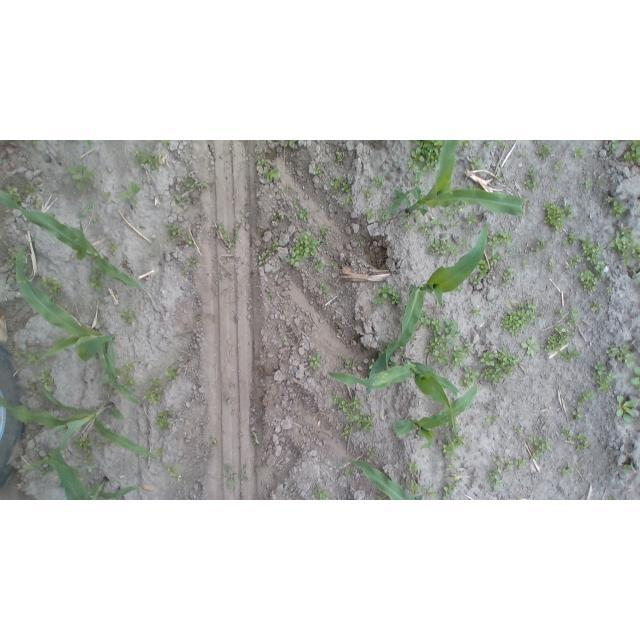Maize: (366, 224, 489, 399), (16, 238, 142, 408), (1, 189, 140, 287), (0, 385, 156, 471), (390, 140, 524, 216), (329, 358, 460, 434), (392, 382, 478, 451), (53, 443, 140, 500), (330, 460, 419, 500)
Weeds: (421, 310, 460, 367), (480, 348, 520, 385), (607, 223, 640, 266), (500, 300, 539, 336), (284, 230, 319, 268), (490, 453, 524, 492), (544, 199, 575, 233), (341, 411, 373, 442), (579, 236, 605, 271), (410, 141, 439, 172), (591, 360, 618, 391), (545, 325, 577, 351), (372, 283, 401, 308), (607, 342, 635, 367), (134, 147, 162, 172), (331, 390, 361, 413), (329, 174, 351, 205), (67, 165, 93, 190), (616, 396, 640, 423), (526, 435, 553, 459), (143, 378, 166, 405), (443, 464, 460, 500), (441, 436, 465, 460), (73, 437, 93, 465), (577, 271, 598, 296), (122, 182, 143, 207), (451, 341, 474, 363), (429, 239, 458, 256), (217, 223, 235, 250), (90, 267, 107, 294), (258, 240, 277, 264), (622, 141, 640, 166), (488, 230, 513, 247), (459, 367, 480, 387), (41, 276, 63, 294), (522, 336, 540, 357), (577, 390, 598, 407), (39, 367, 53, 392), (224, 463, 236, 491), (182, 177, 207, 190), (312, 485, 333, 500), (305, 354, 323, 371), (488, 249, 504, 268), (295, 202, 309, 223), (76, 198, 92, 216), (524, 167, 537, 189), (502, 267, 516, 287), (530, 237, 547, 253), (6, 185, 22, 202), (564, 254, 581, 269), (557, 462, 575, 476), (157, 411, 171, 429), (558, 350, 580, 361), (417, 222, 432, 238), (577, 433, 592, 449), (610, 202, 625, 218), (468, 153, 483, 169), (121, 307, 135, 324), (265, 167, 279, 184), (24, 349, 39, 364), (168, 222, 181, 239), (407, 459, 422, 473), (536, 145, 550, 160), (320, 282, 332, 297), (477, 261, 489, 276), (631, 366, 640, 386), (563, 427, 574, 443), (424, 488, 437, 501), (372, 177, 385, 190), (165, 367, 179, 379), (407, 479, 420, 491), (484, 414, 497, 426), (101, 191, 113, 204), (167, 463, 178, 477), (125, 361, 136, 375), (402, 212, 420, 220), (361, 187, 373, 199), (571, 408, 583, 420), (467, 308, 483, 317), (378, 209, 388, 223), (590, 300, 600, 314), (430, 216, 442, 227), (124, 378, 136, 389), (107, 239, 118, 251), (344, 468, 357, 478), (265, 287, 275, 300), (272, 213, 285, 223), (257, 158, 271, 167), (8, 251, 17, 265), (467, 213, 477, 225), (595, 179, 607, 189), (607, 141, 615, 156), (633, 266, 640, 283), (365, 209, 374, 222), (453, 206, 466, 215), (414, 173, 422, 187), (23, 183, 37, 191), (345, 359, 355, 370), (320, 224, 330, 235), (404, 222, 413, 234), (470, 275, 482, 284), (314, 261, 324, 271), (28, 381, 38, 391), (186, 258, 197, 267), (338, 152, 346, 164), (253, 432, 260, 445), (367, 447, 376, 457), (605, 196, 615, 205), (554, 308, 564, 317), (13, 349, 22, 359), (567, 315, 576, 325), (314, 165, 322, 176), (548, 260, 555, 272), (284, 141, 296, 148), (184, 238, 193, 247), (443, 207, 451, 217), (458, 237, 468, 245), (574, 147, 582, 157), (569, 234, 576, 245), (24, 141, 39, 146), (585, 176, 591, 188), (155, 448, 163, 457), (481, 141, 491, 148), (570, 307, 580, 314), (459, 141, 469, 148), (116, 367, 122, 378), (175, 194, 183, 202), (93, 215, 100, 224), (34, 199, 41, 208), (97, 442, 106, 449), (225, 395, 231, 405), (523, 259, 529, 269), (562, 240, 570, 247), (514, 427, 522, 434), (451, 220, 459, 227), (357, 238, 364, 246), (497, 177, 506, 183), (624, 463, 632, 469), (87, 140, 93, 148), (609, 496, 618, 501), (162, 140, 171, 145), (211, 437, 217, 444), (500, 143, 506, 150), (181, 268, 188, 274), (256, 228, 264, 233), (332, 261, 337, 269), (556, 162, 563, 167), (607, 287, 612, 293), (494, 140, 500, 145), (552, 187, 559, 191), (533, 141, 542, 144), (555, 174, 560, 178)
